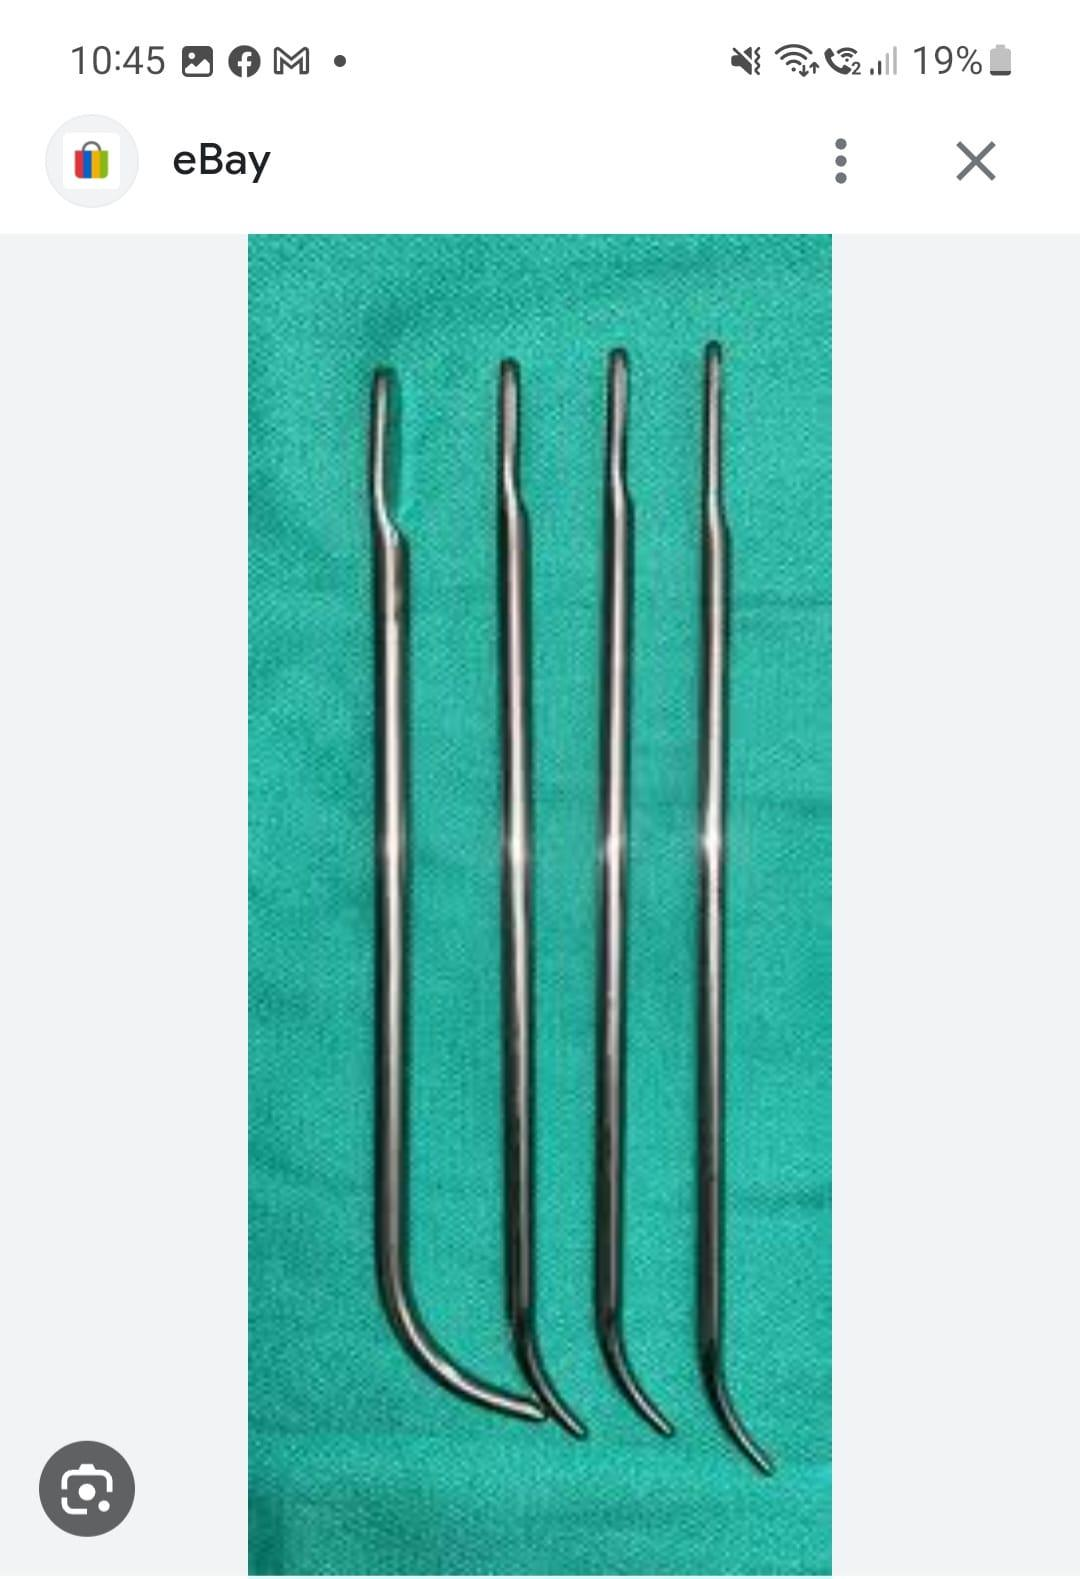Urethral Dilators: (428, 317, 645, 1445), (338, 350, 550, 1455), (655, 288, 830, 1512), (565, 325, 715, 1460)
